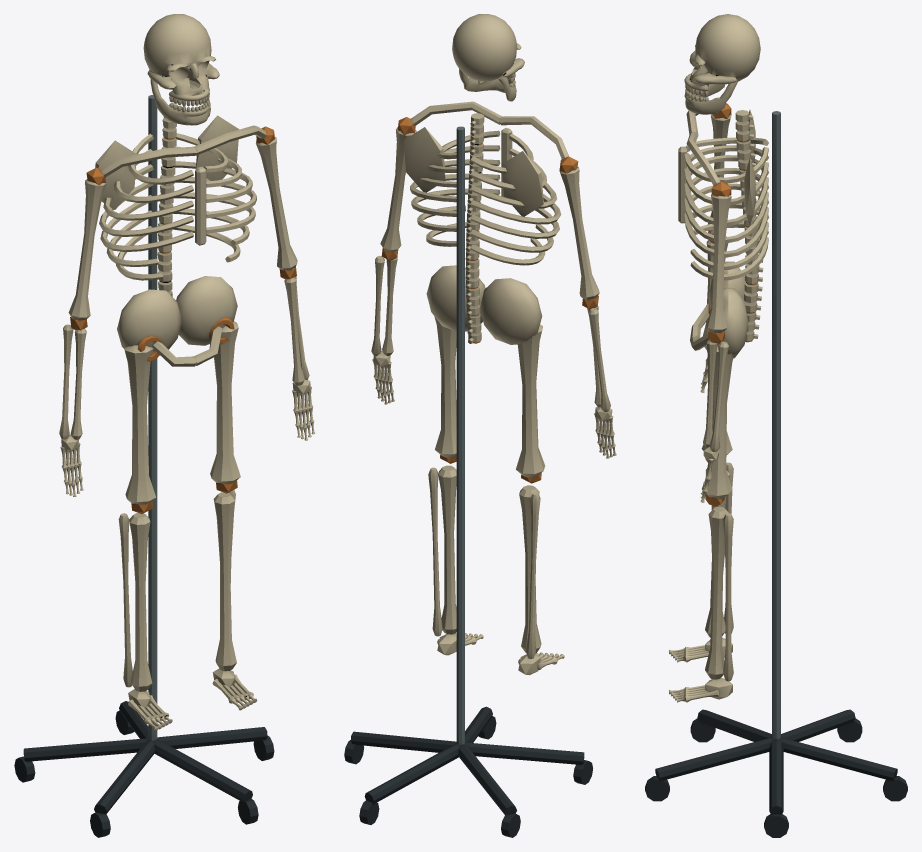
The model's file is skeleton.glb.
The picture shows the model from 3 angles, left to right: view 1: azimuth 30°, elevation 25°; view 2: azimuth 150°, elevation 25°; view 3: azimuth 270°, elevation 25°; orthographic projection. The views are drawn at different scales.
Visible parts, largest first — view 1: skeleton_static_0; view 2: skeleton_static_0; view 3: skeleton_static_0.
Part boxes in pixels (x1,y1,x2,y2): skeleton_static_0: [14, 14, 315, 837]; skeleton_static_0: [344, 14, 616, 837]; skeleton_static_0: [645, 14, 907, 837].
Bounding box in the file's own units: 0.5641 × 1.69 × 0.5255.
Materials: 1 (1 with a texture image).
